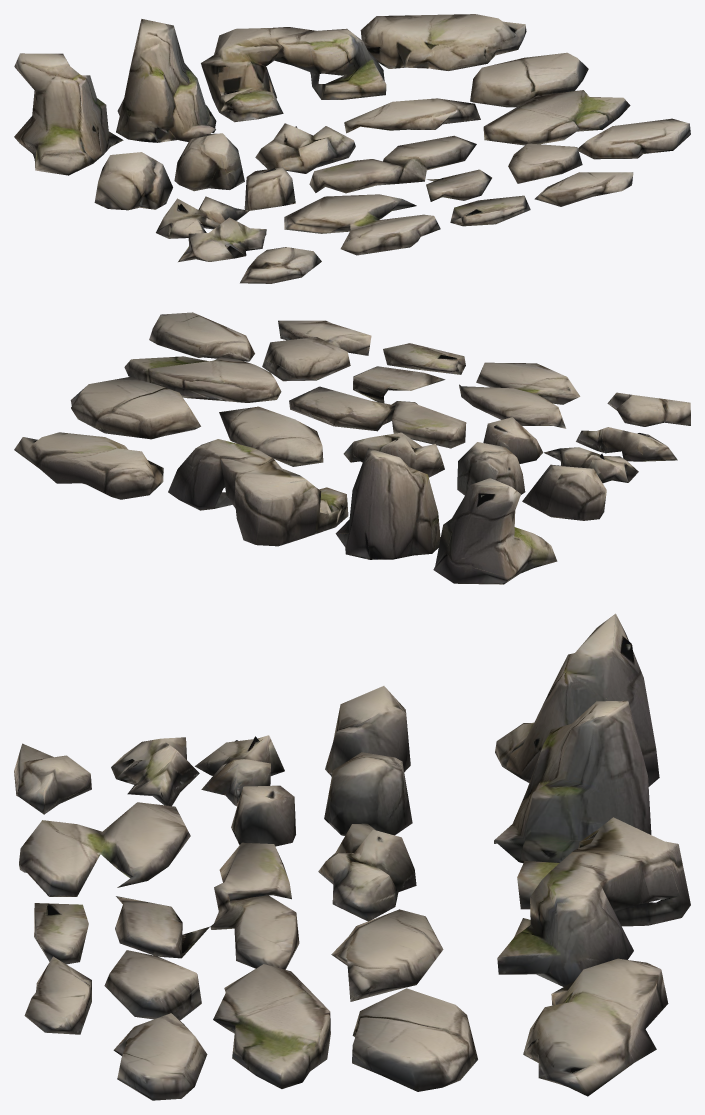
The model's file is Rock_Formation_Collec.glb.
3 renders of one model, top to bottom at view 1: azimuth 30°, elevation 25°; view 2: azimuth 150°, elevation 25°; view 3: azimuth 270°, elevation 25°, orthographic. The views are drawn at different scales.
Visible parts, largest first — view 1: Rock_Formation_Collec; view 2: Rock_Formation_Collec; view 3: Rock_Formation_Collec.
Part boxes in pixels (left/top/right/bottom): Rock_Formation_Collec: left=14, top=14, right=690, bottom=283; Rock_Formation_Collec: left=14, top=312, right=690, bottom=584; Rock_Formation_Collec: left=14, top=613, right=690, bottom=1100.
Bounding box in the file's own units: 1.9 × 0.335 × 1.47.
1 material, 1 textured.
